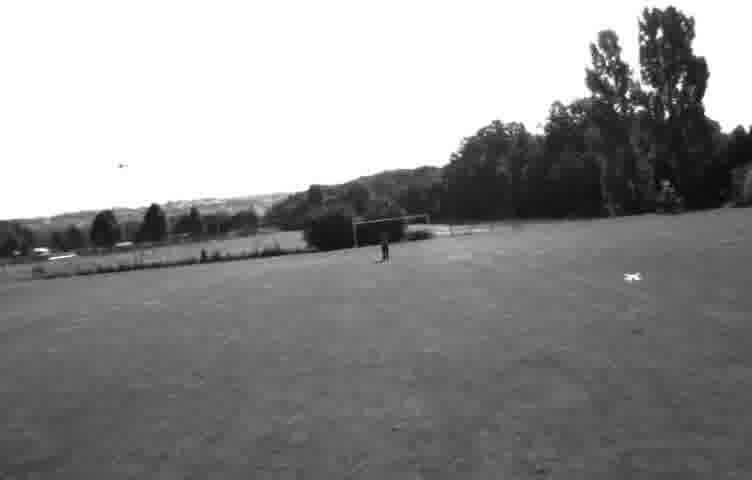drone: (621, 270, 644, 286)
